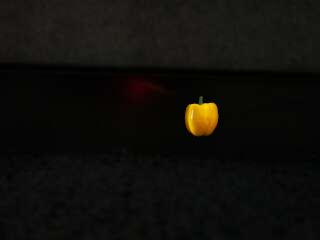Capsicum: (184, 95, 220, 137)
